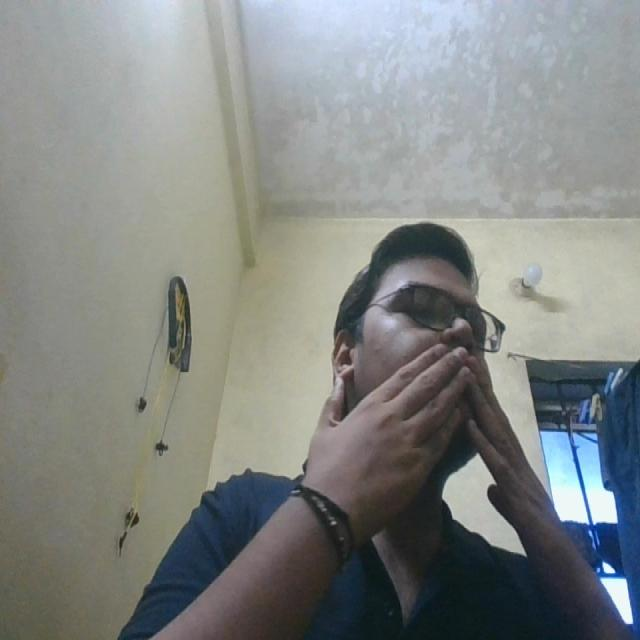Thanks: (294, 322, 581, 581)
